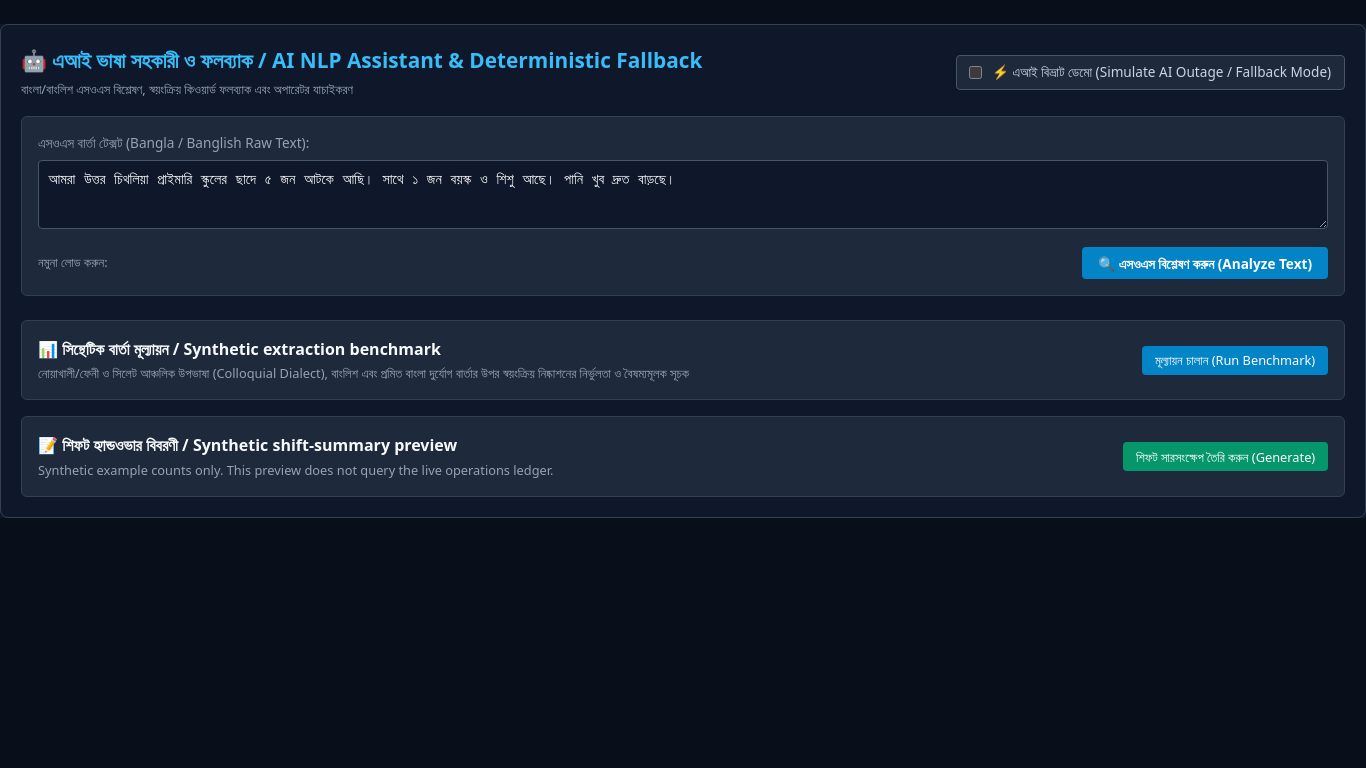
Test: AiLanguageAssistant Component › runs 30-message synthetic benchmark and displays metrics
What coordinates should you click on to do the following:
click the button "মূল্যায়ন চালান (Run Benchmark)"
I would click on:
 (1235, 360)
Its box is [1142,346,1328,375].
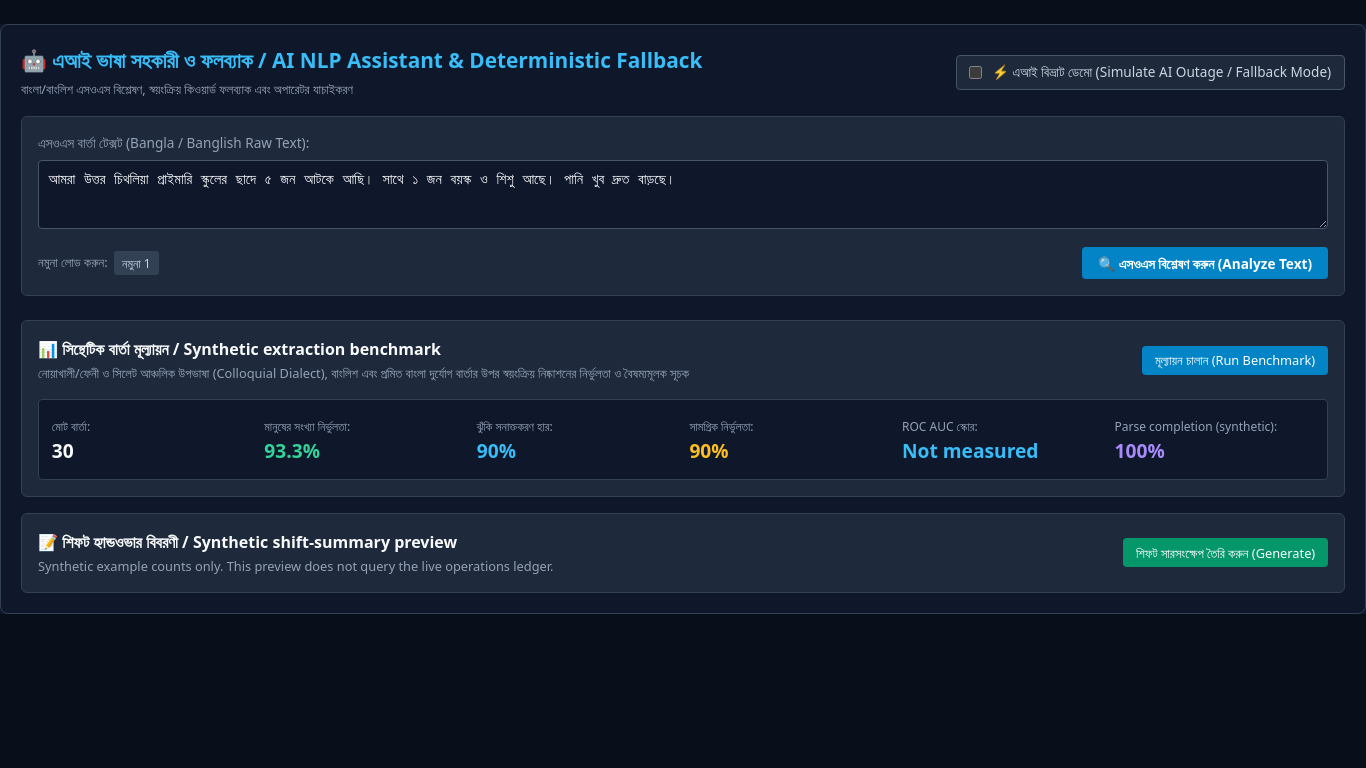
Result: the text "মানুষের সংখ্যা নির্ভুলতা:" is shown at [264,418,350,435]
Result: the text "93.3%" is shown at [264,437,320,464]
Result: the text "100%" is shown at [1114,437,1165,464]
